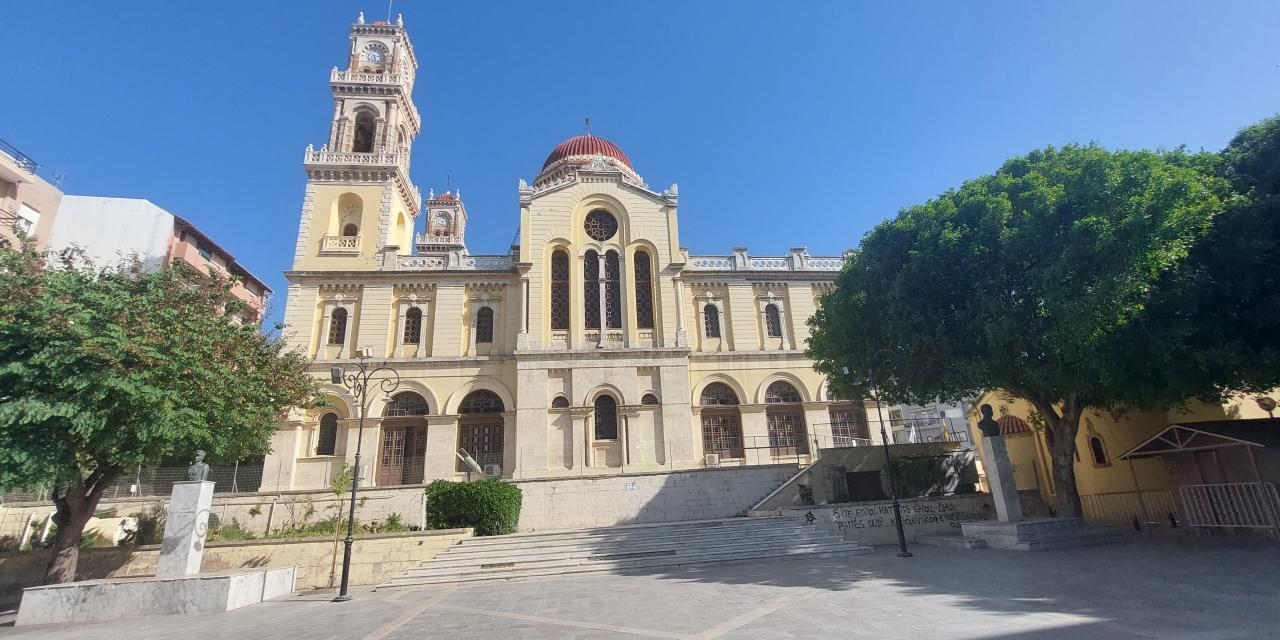Agios Minas: (261, 8, 897, 464)
